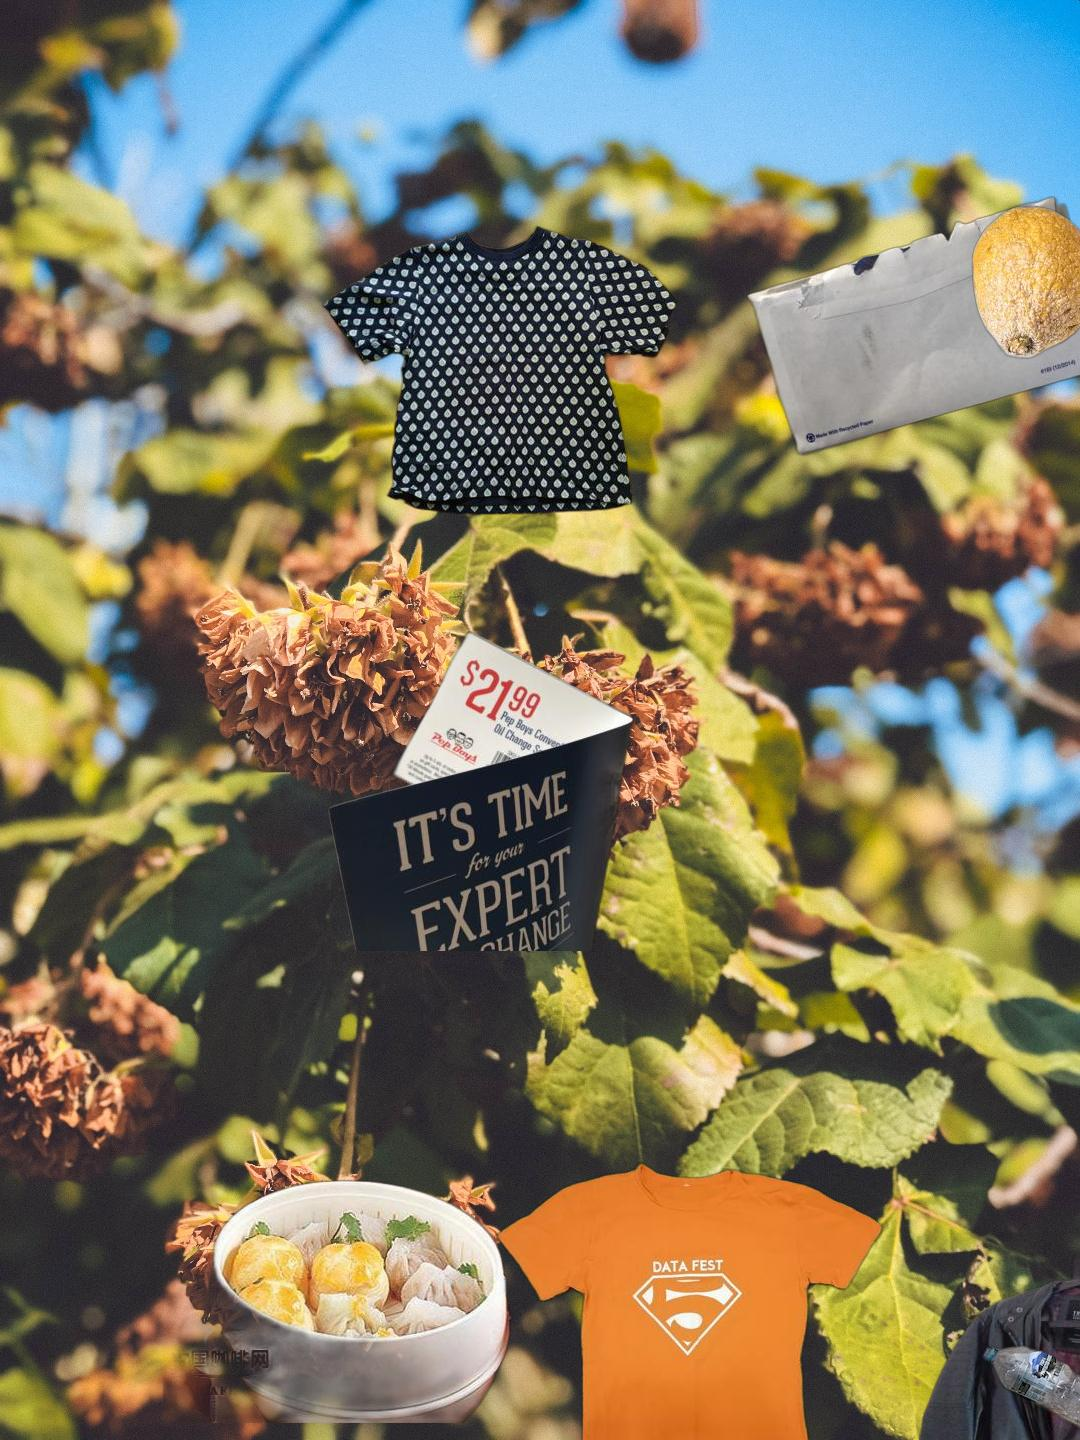biological: (163, 1179, 529, 1423), (969, 204, 1080, 361)
clothes: (436, 1160, 888, 1440), (317, 225, 683, 518), (896, 1239, 1080, 1440)
paper: (324, 628, 638, 951), (742, 193, 1080, 459)
plastic-bottles: (977, 1340, 1080, 1440)
